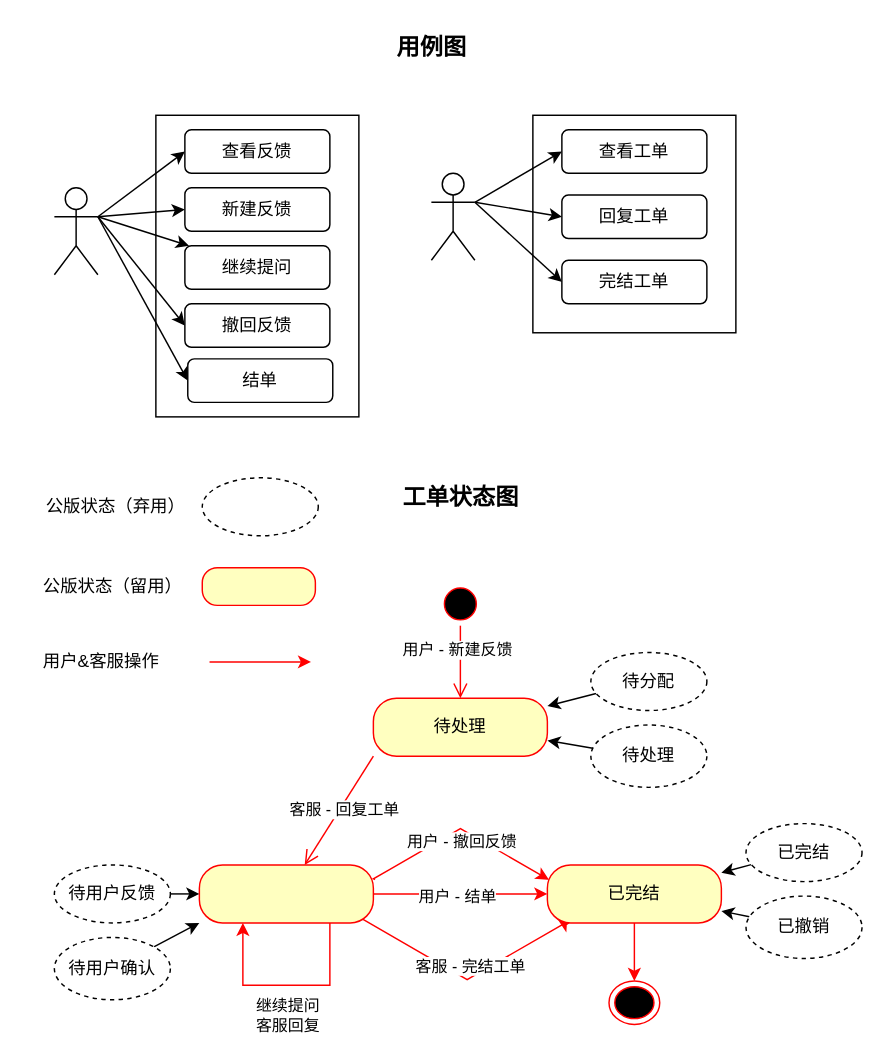
This 887x1059 diagram has some shape labels left out. The shapes that lost their labels are listed below. From the top down, each one's centre as x and y in pixels, then its label:
At point (75, 230): "App 用户".
At point (452, 216): "客服人员".
At point (285, 893): "处理中".
